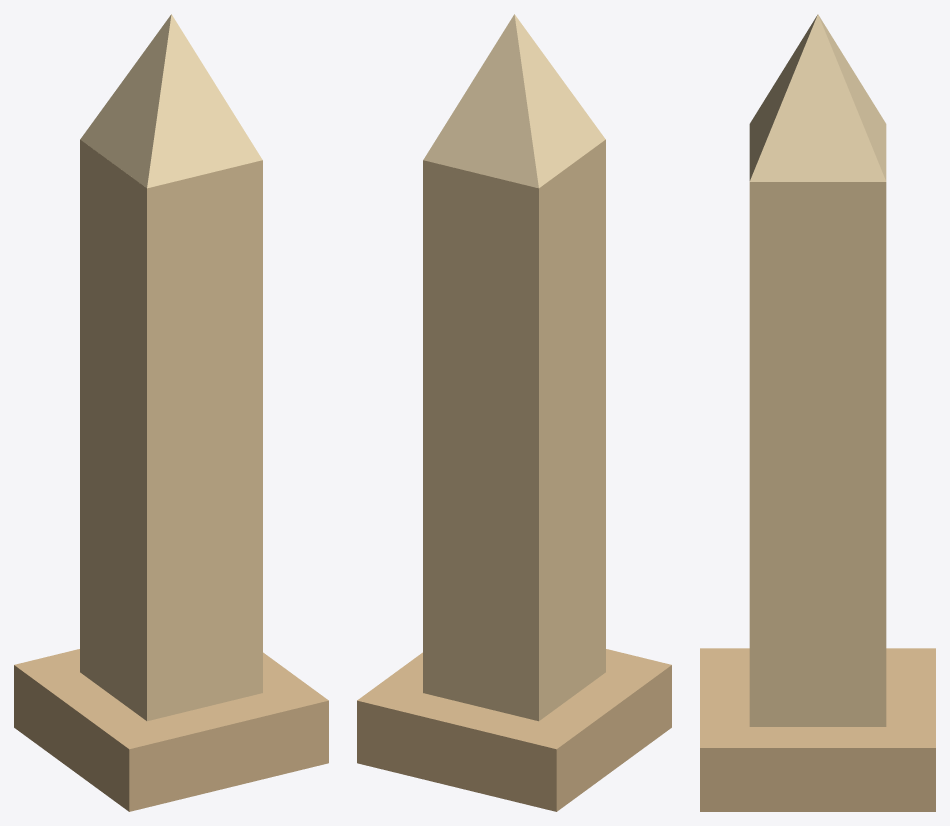
The model's file is obelisk.glb.
3 renders of one model, left to right at view 1: azimuth 30°, elevation 25°; view 2: azimuth 150°, elevation 25°; view 3: azimuth 270°, elevation 25°, orthographic. The views are drawn at different scales.
Visible parts, largest first — view 1: column, base, tip; view 2: column, base, tip; view 3: column, base, tip.
Boxes of the visible parts, x1,y1,x2,y2 form: column: (80,139,262,721); base: (14,649,328,811); tip: (80,14,262,188); column: (423,139,605,721); base: (357,649,671,811); tip: (423,14,605,188); column: (749,182,886,726); base: (700,648,935,811); tip: (749,14,886,181).
Bounding box in the file's own units: 1 × 3.5 × 1.
